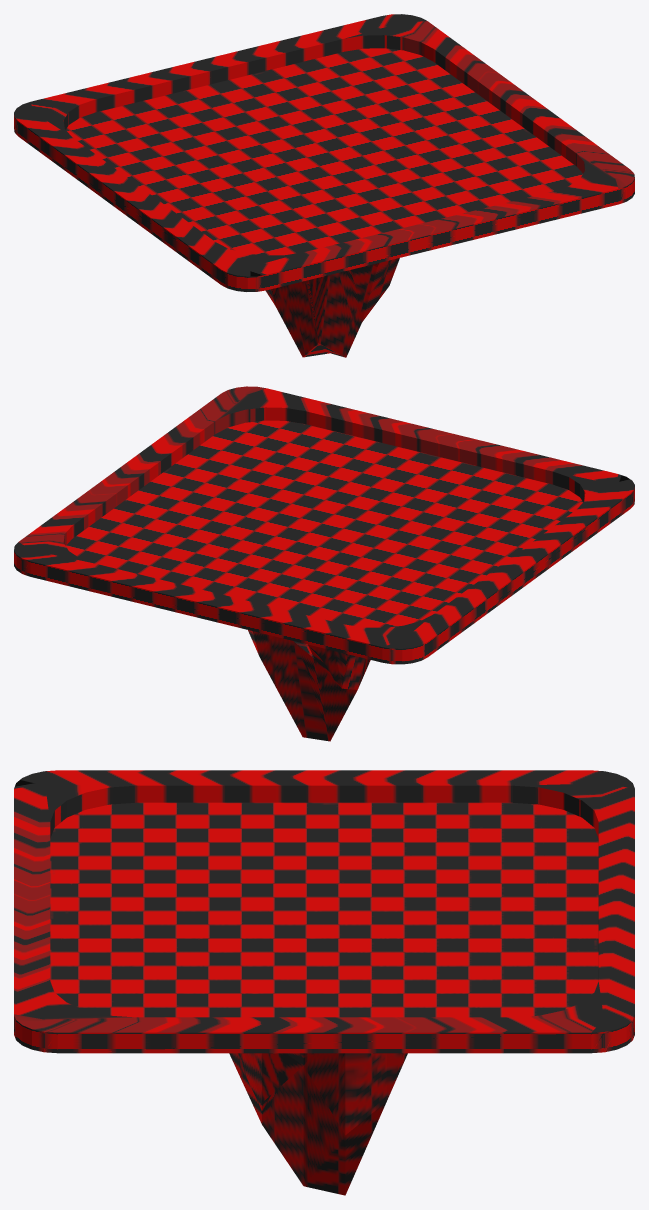
The model's file is Arena A.glb.
3 renders of one model, top to bottom at view 1: azimuth 30°, elevation 25°; view 2: azimuth 150°, elevation 25°; view 3: azimuth 270°, elevation 25°, orthographic. The views are drawn at different scales.
Parts seen in each view (by area): view 1: Arena A; view 2: Arena A; view 3: Arena A.
Part boxes in pixels (x1,y1,x2,y2): Arena A: (14,14,634,357); Arena A: (14,386,634,741); Arena A: (14,770,634,1195).
Bounding box in the file's own units: 97.68 × 49.51 × 97.68.
1 material, 1 textured.
